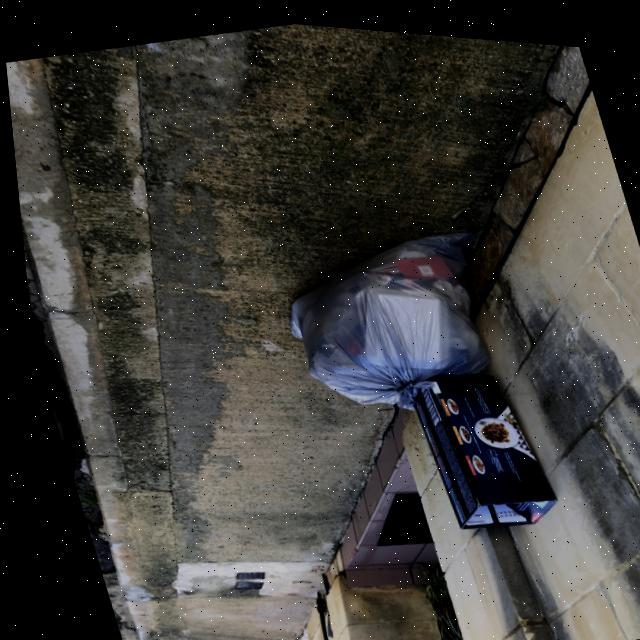Other: (392, 345, 565, 543)
Recycled Waste -Grey or Green Bag-: (240, 195, 529, 430)
